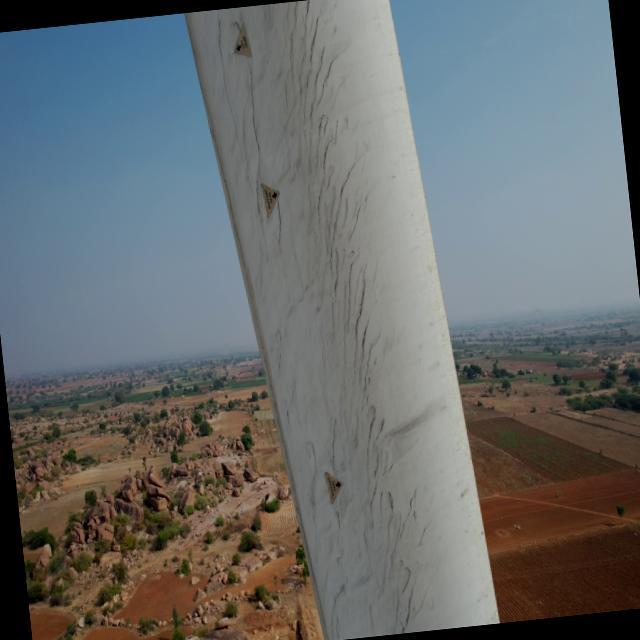Dirt: (190, 2, 471, 640)
Pin Hole: (269, 188, 283, 206), (233, 38, 247, 52), (331, 479, 346, 492)
